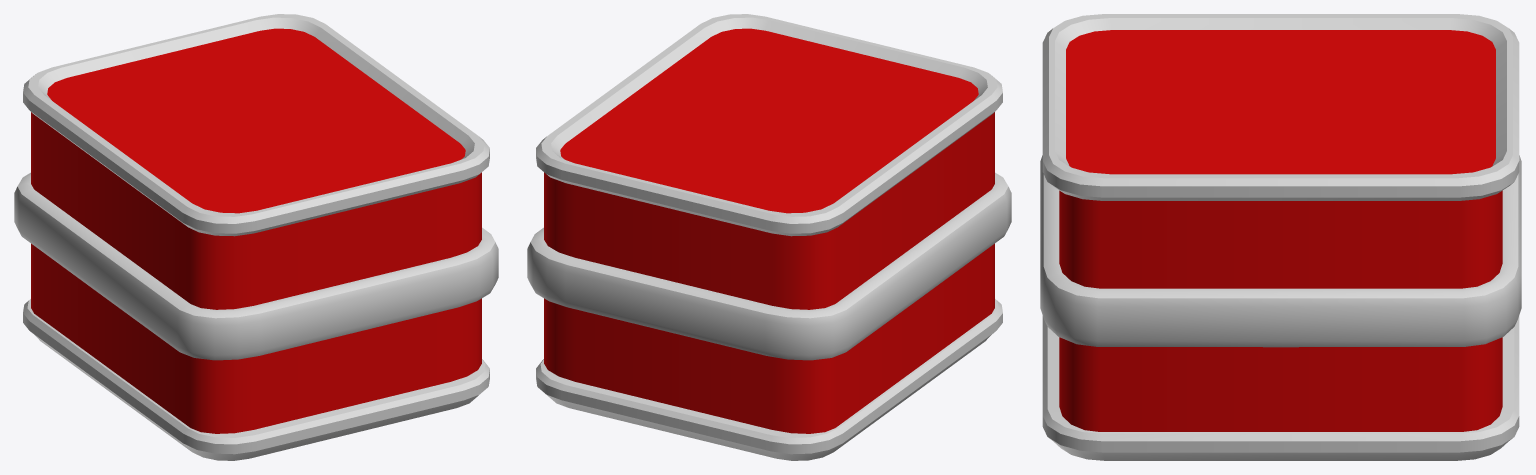
The picture shows the model from 3 angles, left to right: view 1: azimuth 30°, elevation 25°; view 2: azimuth 150°, elevation 25°; view 3: azimuth 270°, elevation 25°; orthographic projection. The views are drawn at different scales.
Parts seen in each view (by area): view 1: Box_2; view 2: Box_2; view 3: Box_2.
Boxes of the visible parts, x1=… form: Box_2: x1=14, y1=14, x2=498, y2=460; Box_2: x1=527, y1=14, x2=1011, y2=460; Box_2: x1=1040, y1=14, x2=1521, y2=460.
Bounding box in the file's own units: 98.46 × 86.48 × 64.48.
